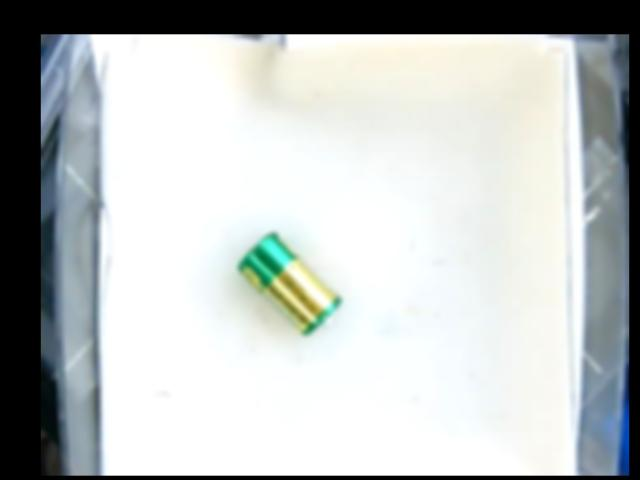Battery: (239, 230, 343, 332)
